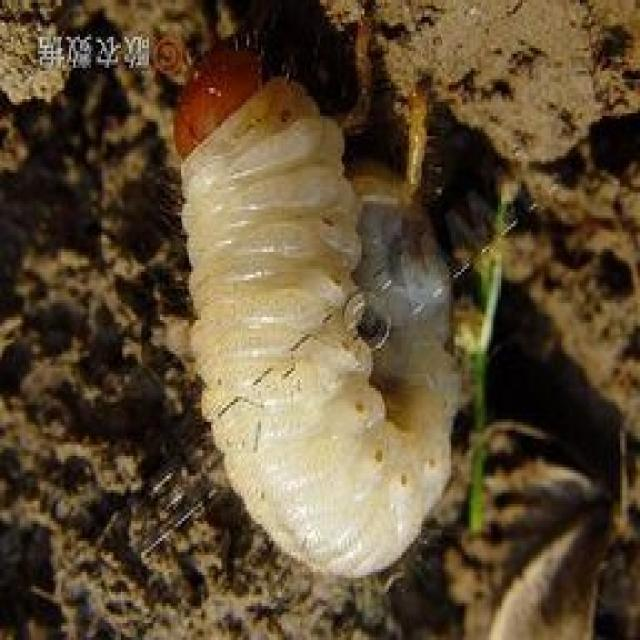army worm: (161, 42, 463, 583)
